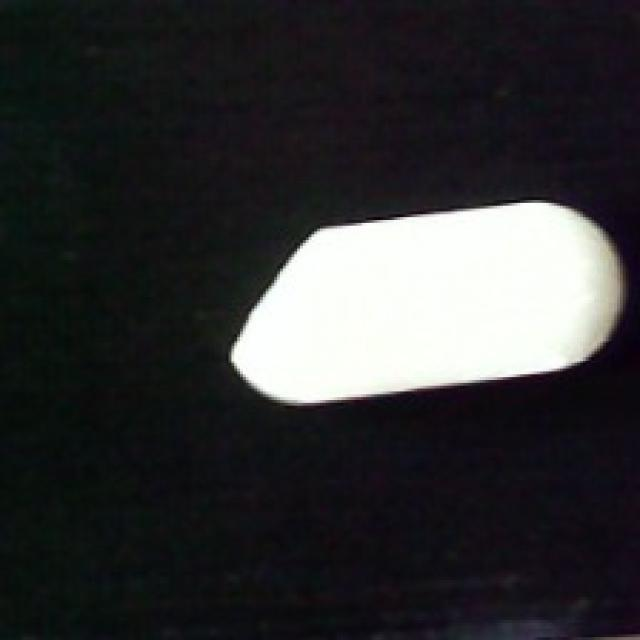defected: (226, 200, 626, 408)
